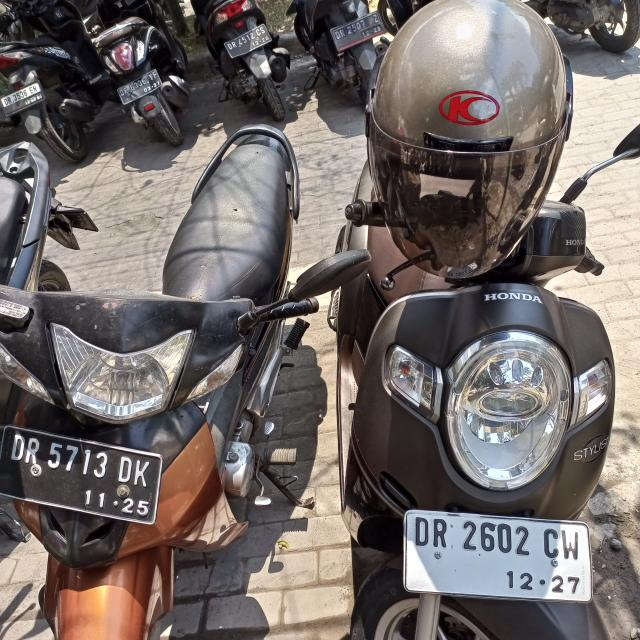plate: (404, 512, 592, 604), (0, 424, 164, 527), (328, 8, 389, 53), (115, 67, 163, 106), (223, 23, 273, 60), (0, 80, 46, 119)
